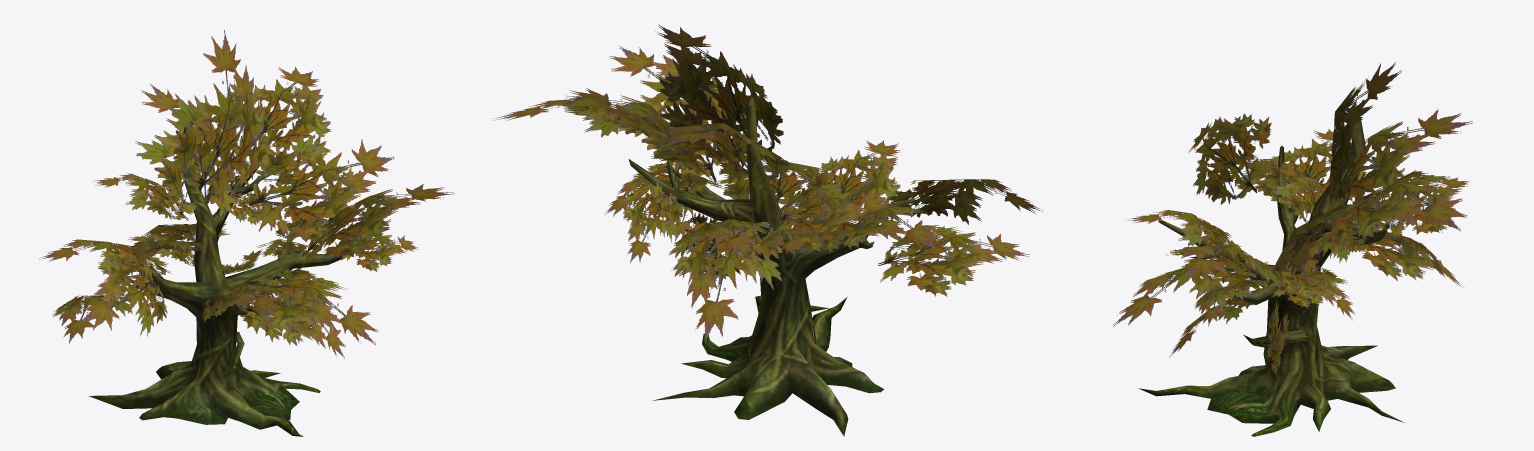
The model's file is ts_yxobj017.FBX.
3 renders of one model, left to right at view 1: azimuth 30°, elevation 25°; view 2: azimuth 150°, elevation 25°; view 3: azimuth 270°, elevation 25°, orthographic. The views are drawn at different scales.
Visible parts, largest first — view 1: ts_yxobj016, ts_yxobj017; view 2: ts_yxobj016, ts_yxobj017; view 3: ts_yxobj016, ts_yxobj017.
Boxes of the visible parts, box(x1,y1,x2,y2) form: ts_yxobj016: box(39, 30, 454, 358); ts_yxobj017: box(89, 124, 367, 436); ts_yxobj016: box(492, 24, 1042, 343); ts_yxobj017: box(628, 96, 915, 436); ts_yxobj016: box(1113, 62, 1472, 374); ts_yxobj017: box(1138, 116, 1404, 436).
Bounding box in the file's own units: 18.48 × 14.51 × 14.92.
